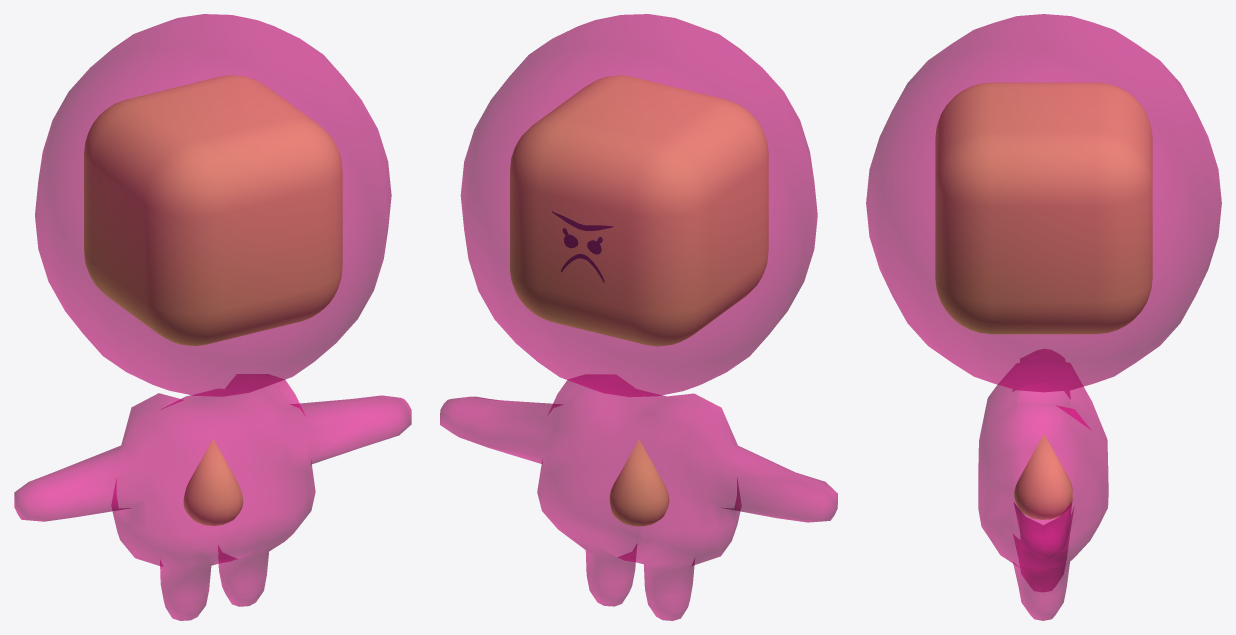
File: tpose_squarehead_pose.fbx
The picture shows the model from 3 angles, left to right: view 1: azimuth 30°, elevation 25°; view 2: azimuth 150°, elevation 25°; view 3: azimuth 270°, elevation 25°; orthographic projection.
Parts seen in each view (by area): view 1: tete_F, Cube, corps_F, Cone.001; view 2: tete_F, Cube, corps_F, Cone.001, Face; view 3: tete_F, Cube, corps_F, Cone.001.
Part boxes in pixels (box(x1,y1,x2,y2)): tete_F: box(35, 14, 391, 396); Cube: box(84, 75, 342, 346); corps_F: box(14, 374, 411, 620); Cone.001: box(183, 439, 243, 525); tete_F: box(460, 14, 817, 397); Cube: box(510, 75, 768, 346); corps_F: box(440, 374, 837, 620); Cone.001: box(609, 439, 669, 526); Face: box(552, 211, 613, 282); tete_F: box(866, 14, 1221, 392); Cube: box(935, 82, 1152, 334); corps_F: box(978, 349, 1108, 620); Cone.001: box(1014, 434, 1072, 519).
Bounding box in the file's own units: 0.9551 × 0.7601 × 1.35.
